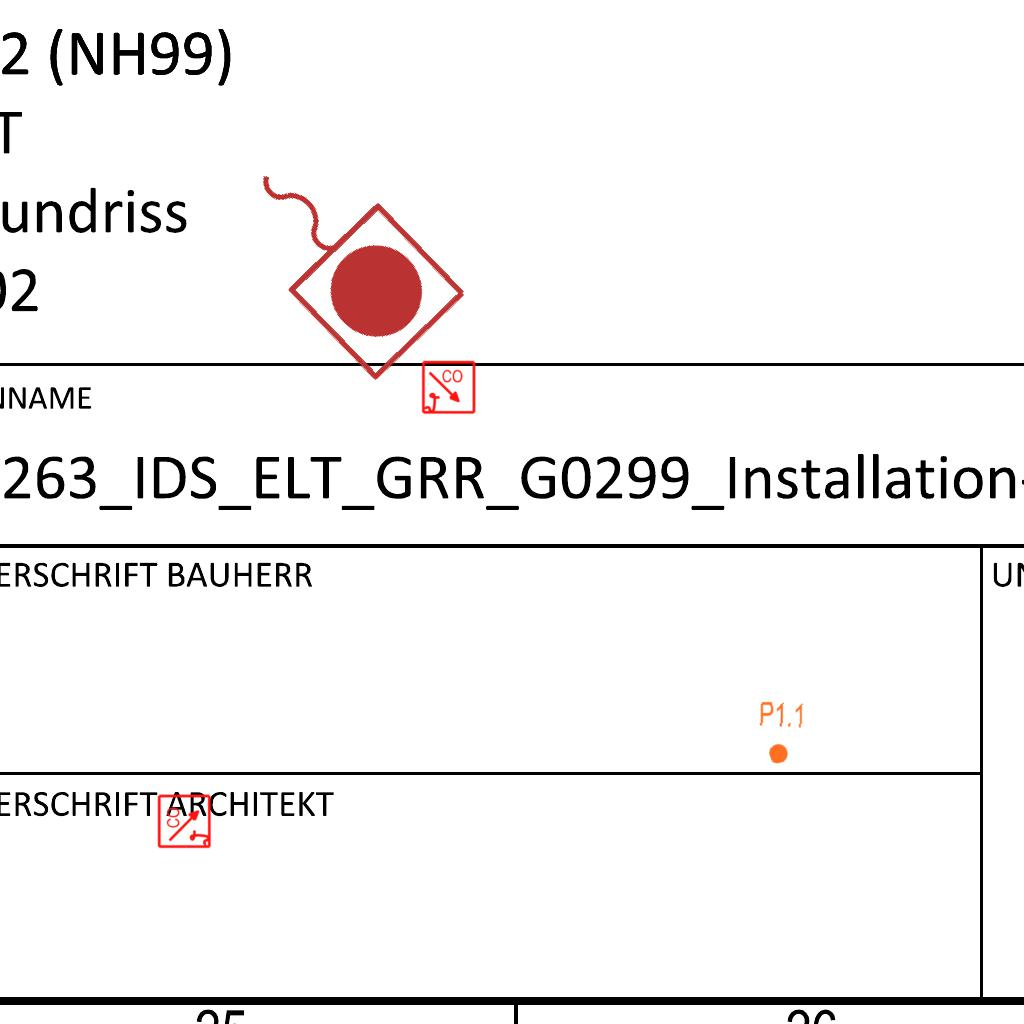Downlight_LED_Einbauleuchten_Flur: (756, 699, 806, 767)
ROA_Rauchmelder_optisch_mit_Signalgeber_(Sockelsirene): (157, 793, 213, 849), (421, 360, 477, 416)
Zugtaster: (206, 116, 480, 392)
